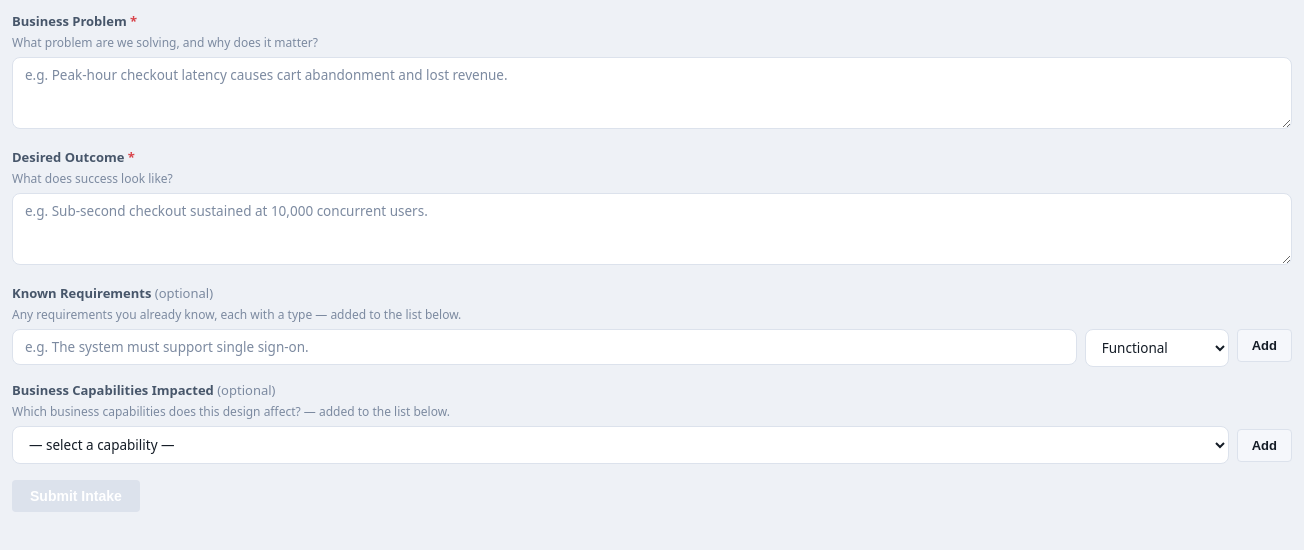
Test: IntakeTextForm › rejects a Known Requirement shorter than 10 characters without adding it, but leaves Submit enabled
This screenshot has width=1304, height=550.
Replace the text in the text box labelled "Business Problem *" with "Problem." at (652, 93), box [12,57,1292,129]
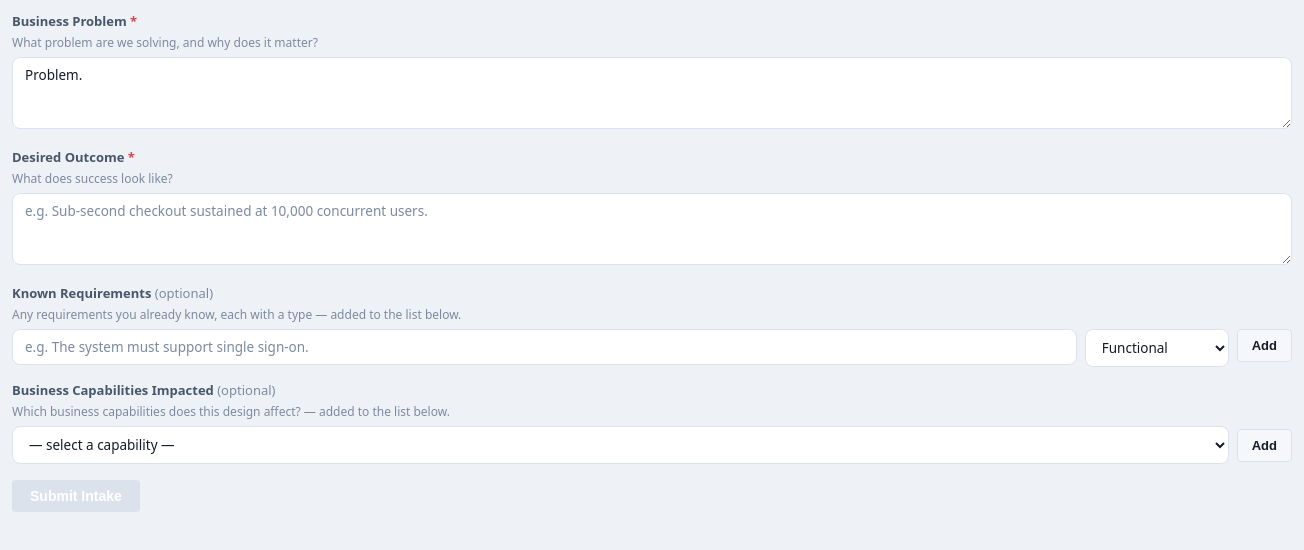
Replace the text in the text box labelled "Desired Outcome *" with "Outcome." at (652, 229), box [12,193,1292,265]
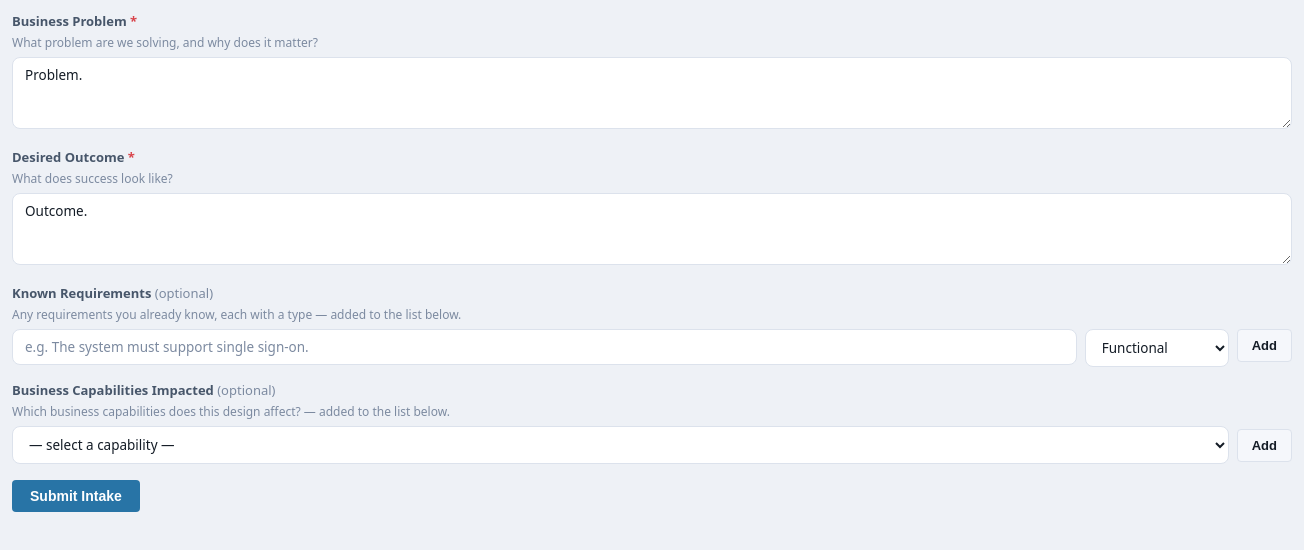
Type "short" into the field labelled "Known Requirements (optional)" at (544, 347), box [12,329,1077,365]
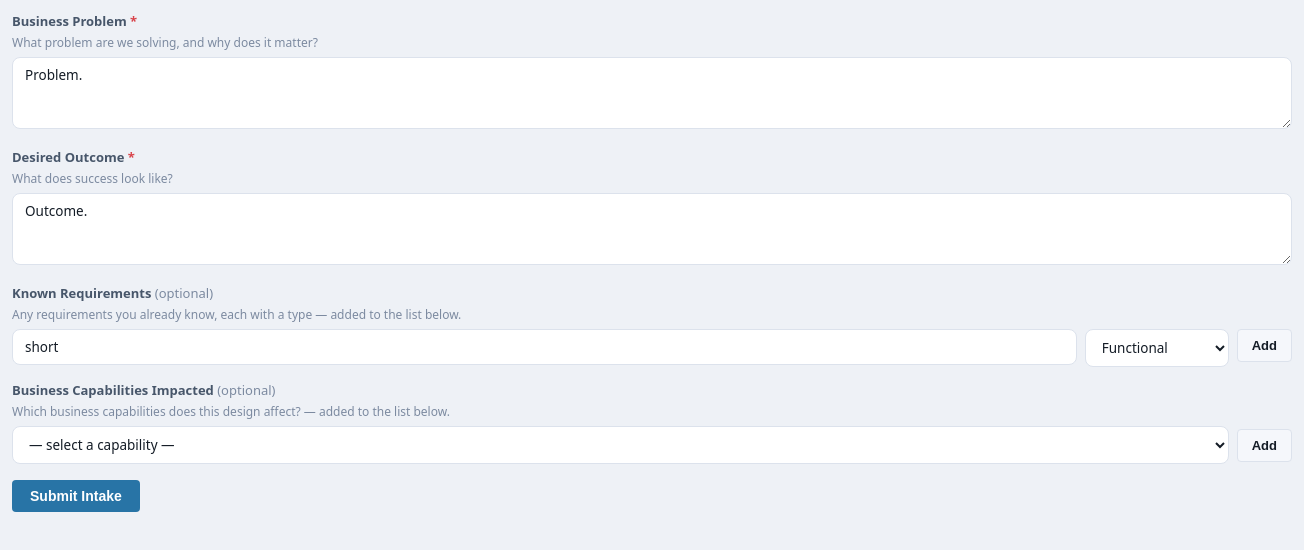
Click the 1st button "Add" at (1264, 346), box [1237,329,1292,362]
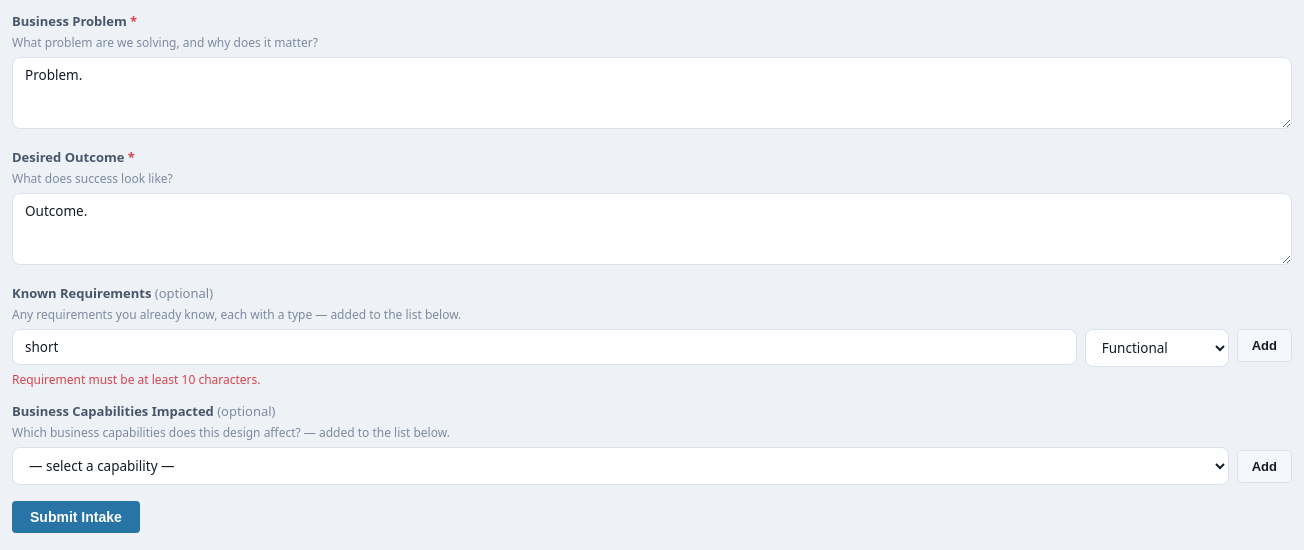
Expected: the button "Submit Intake" is enabled, [12,501,140,533]
Expected: the text "Requirement must be at least 10 characters." is shown, [12,371,260,388]
